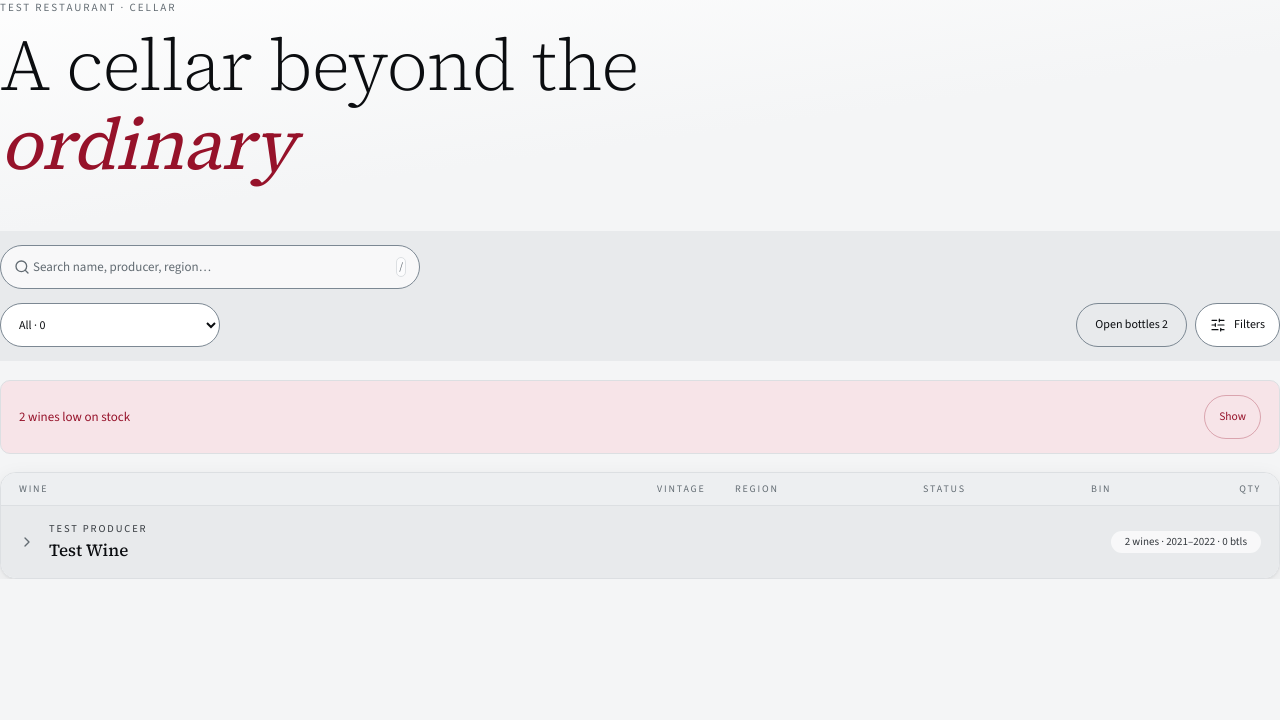
Test: CellarShell open bottles route › starts multi-vintage lineages collapsed and expands them on demand
This screenshot has width=1280, height=720.
Step 1. Click the button "Test Producer Test Wine 2 wines · 2021–2022 · 0 btls" → x=98, y=528, box [1,506,1279,578]
(page scrolled)
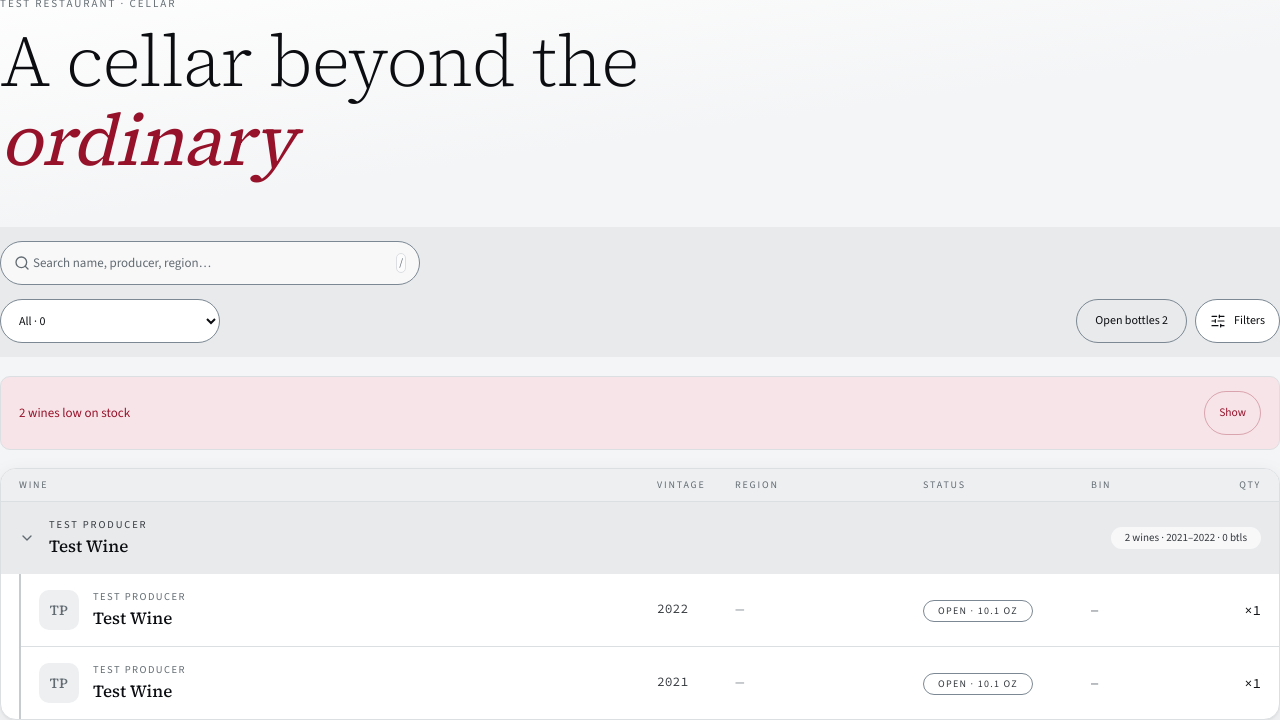
Expected: the button "Test Producer Test Wine 2 wines · 2021–2022 · 0 btls" is expanded, [1,502,1279,574]
